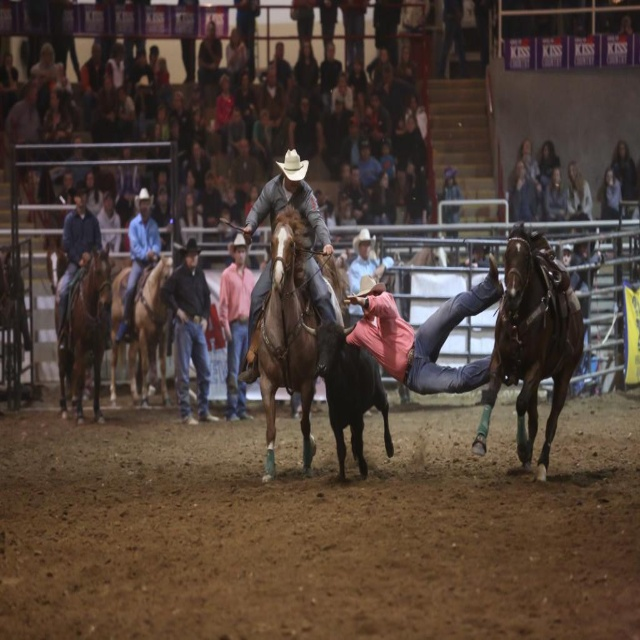Horse: (472, 221, 585, 482), (256, 203, 352, 483), (54, 243, 114, 426), (111, 254, 172, 408)
